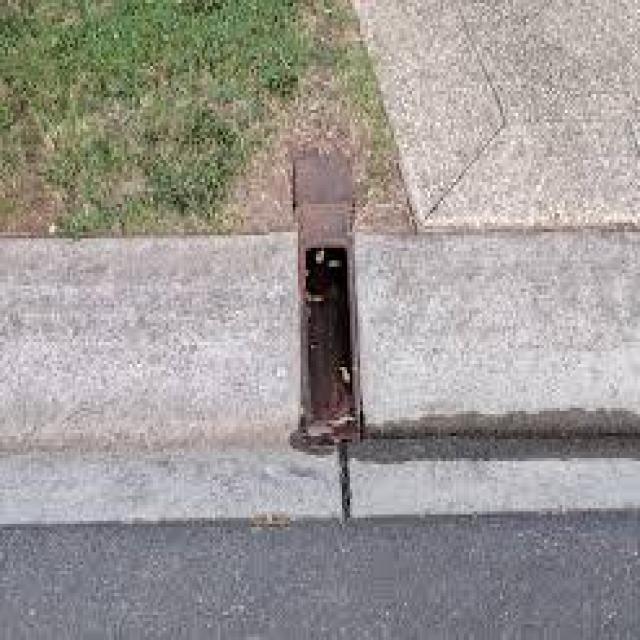bump: (18, 204, 640, 500)
